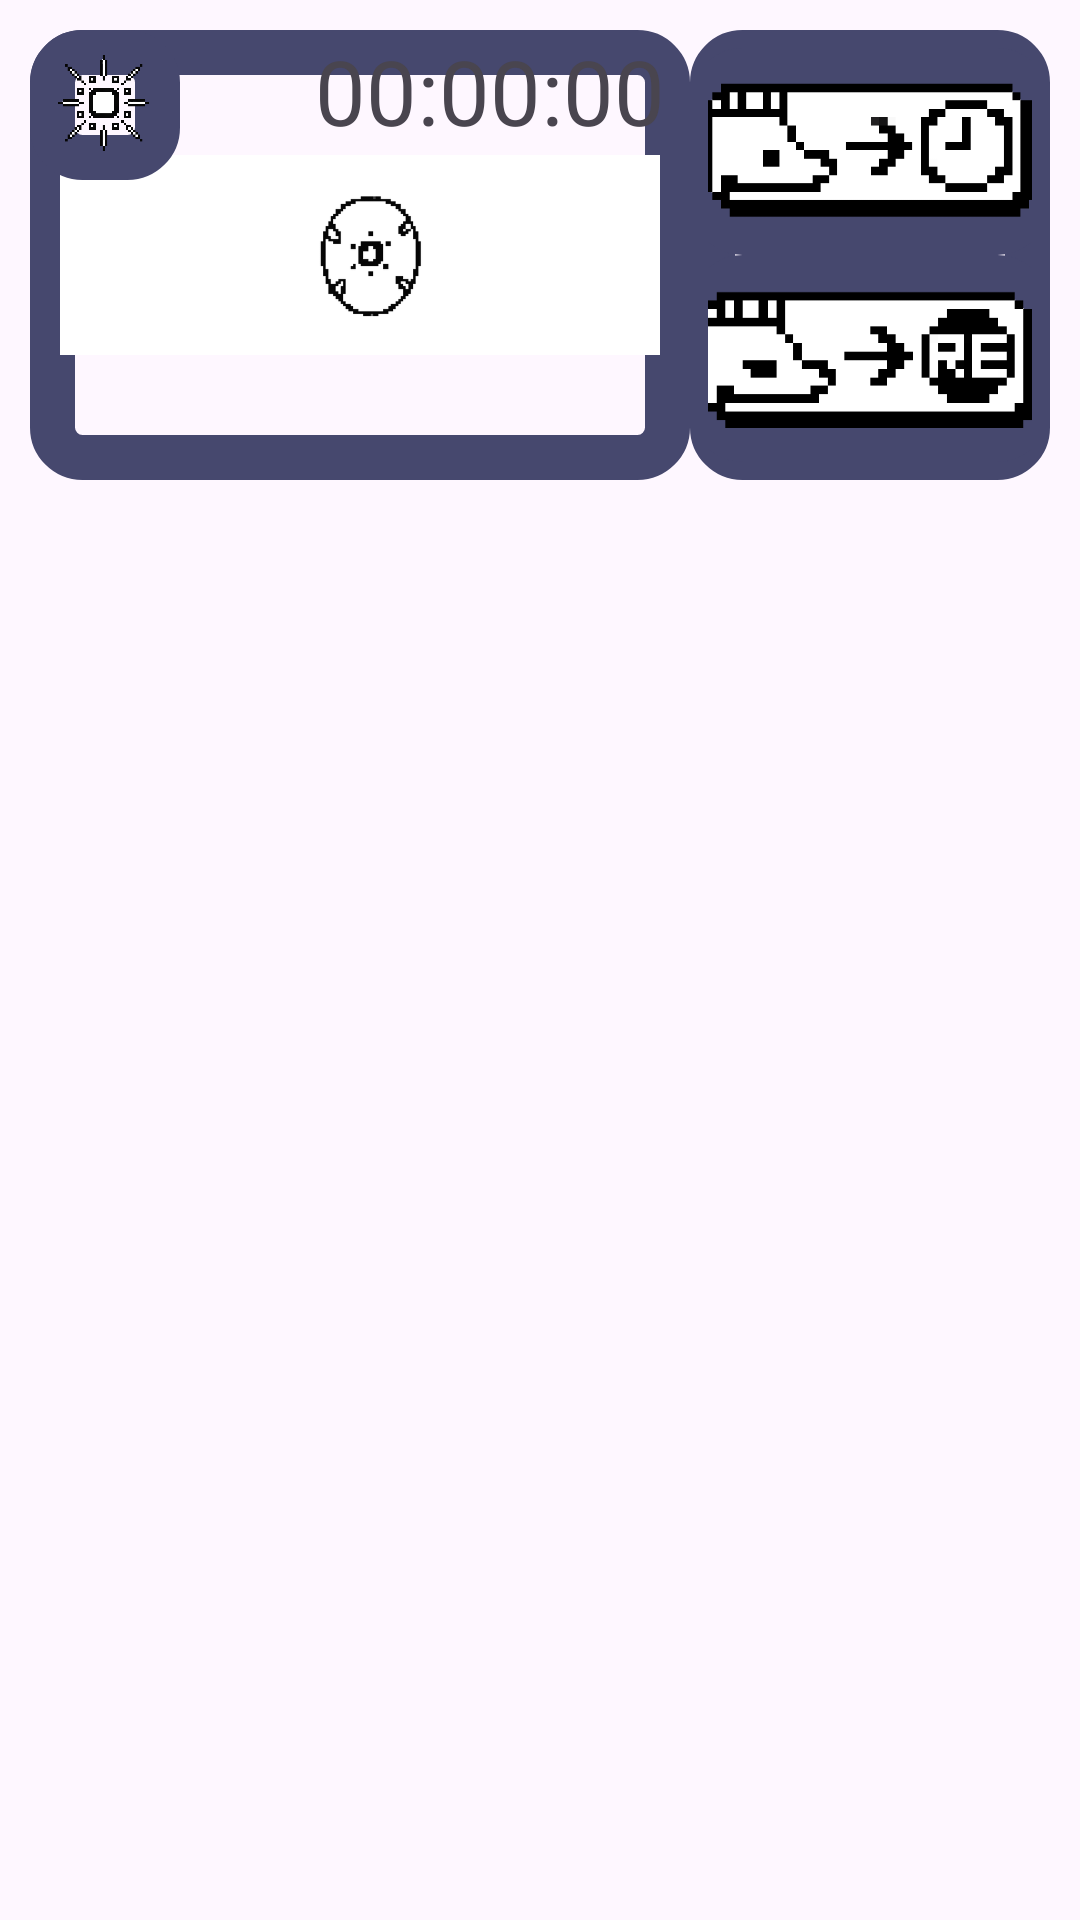

Where icons sit on this 1080×1920 app screen, as [x1, y1, x2, y2]:
apply clock: [708, 83, 1032, 255]
restart to egg: [708, 255, 1032, 428]
